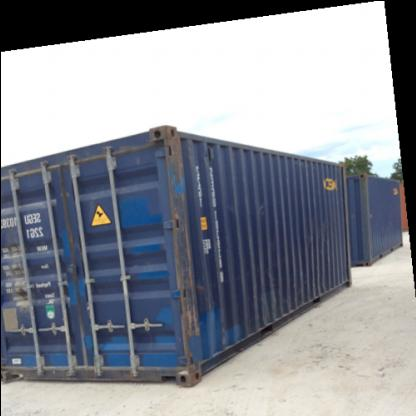Damage: (158, 131, 206, 334), (6, 229, 34, 302), (241, 268, 307, 296), (213, 313, 245, 345), (256, 192, 276, 223), (318, 224, 332, 261)
